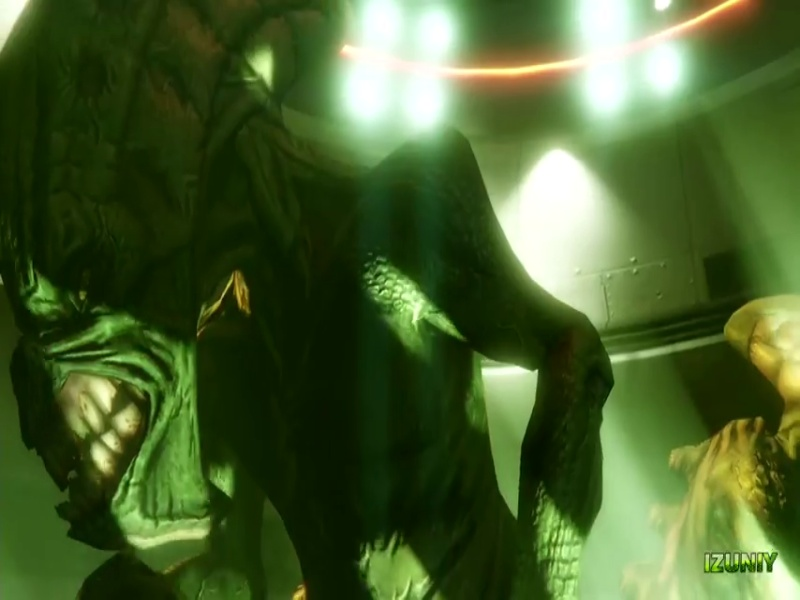human: (7, 5, 664, 596)
